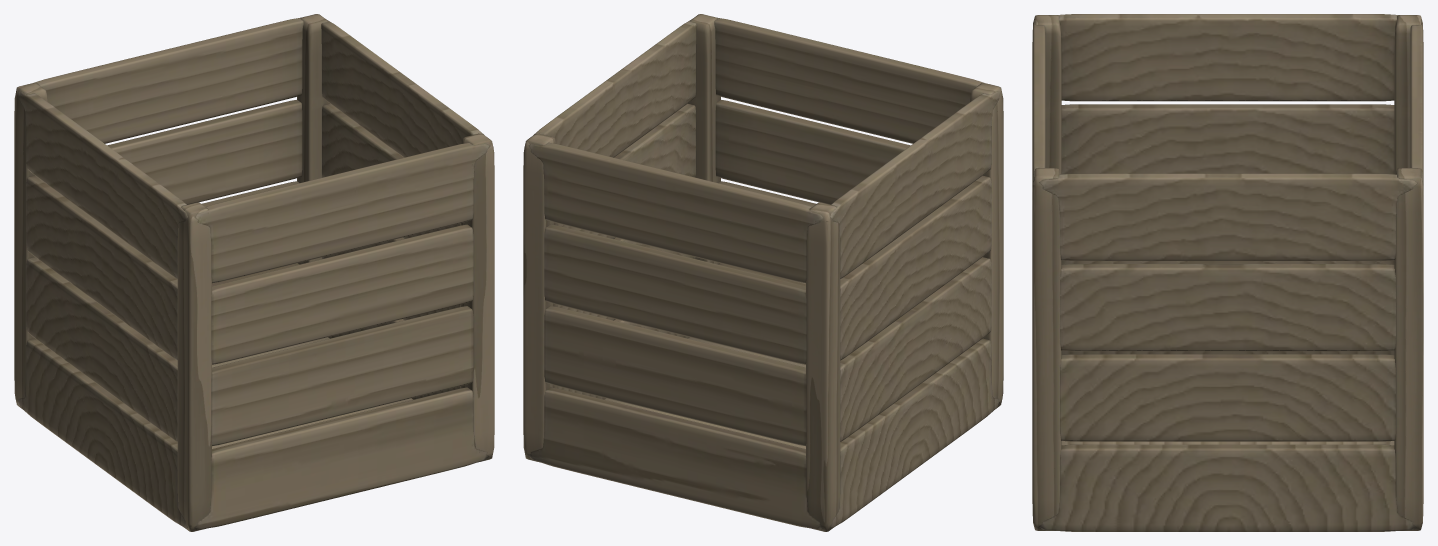
The model's file is weathered-open.glb.
3 renders of one model, left to right at view 1: azimuth 30°, elevation 25°; view 2: azimuth 150°, elevation 25°; view 3: azimuth 270°, elevation 25°, orthographic. The views are drawn at different scales.
Parts seen in each view (by area): view 1: crate_wood, crate_wood_v; view 2: crate_wood, crate_wood_v; view 3: crate_wood, crate_wood_v.
Boxes of the visible parts, x1,y1,x2,y2 form: crate_wood: (17,17,493,529); crate_wood_v: (14,14,494,531); crate_wood: (528,17,1000,529); crate_wood_v: (523,14,1003,531); crate_wood: (1032,14,1423,531); crate_wood_v: (1032,15,1423,530).
Bounding box in the file's own units: 0.601 × 0.6 × 0.601.
Materials: 2 (2 with a texture image).
